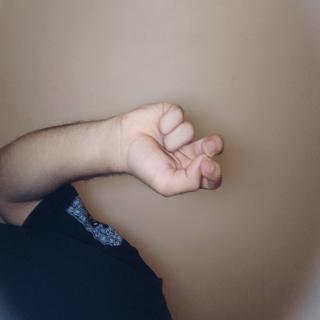QAAF: (72, 125, 151, 288)
